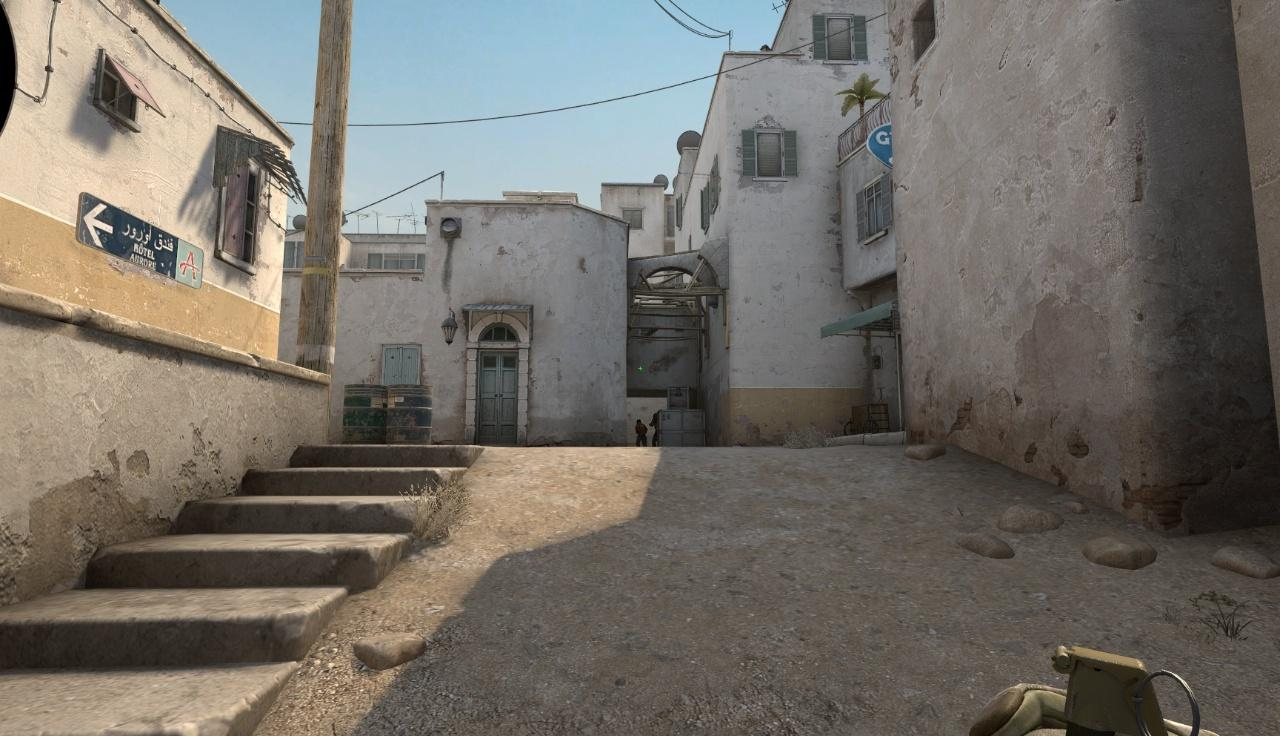tt: (635, 419, 647, 446), (651, 413, 658, 447)
